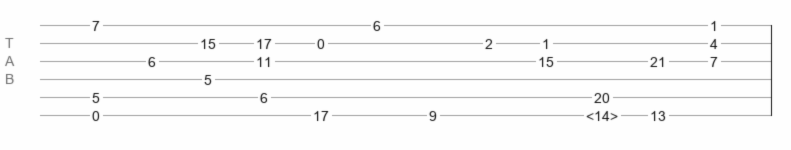0: (92, 108, 100, 118), (317, 36, 325, 46)
1: (542, 36, 550, 46), (710, 18, 718, 28)
11: (256, 54, 272, 64)
13: (650, 108, 666, 118)
15: (200, 36, 216, 46), (538, 54, 554, 64)
17: (256, 36, 272, 46), (313, 108, 329, 118)
2: (485, 36, 493, 46)
20: (594, 90, 610, 100)
21: (650, 54, 666, 64)
4: (710, 36, 718, 46)
5: (92, 90, 100, 100), (204, 72, 212, 82)
6: (148, 54, 156, 64), (260, 90, 268, 100), (373, 18, 381, 28)
7: (92, 18, 100, 28), (710, 54, 718, 64)
9: (429, 108, 437, 118)
harmonic: (586, 108, 618, 118)
